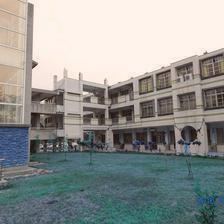Destroyed_Building: (0, 0, 222, 176)
